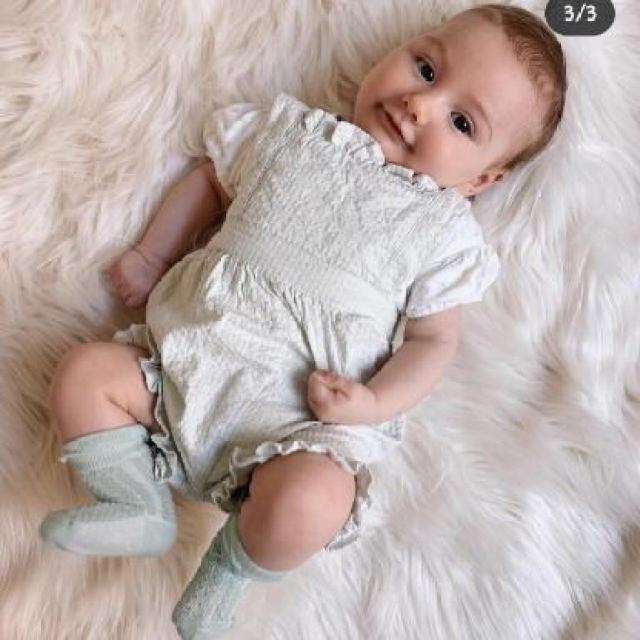baby: (34, 1, 563, 637)
